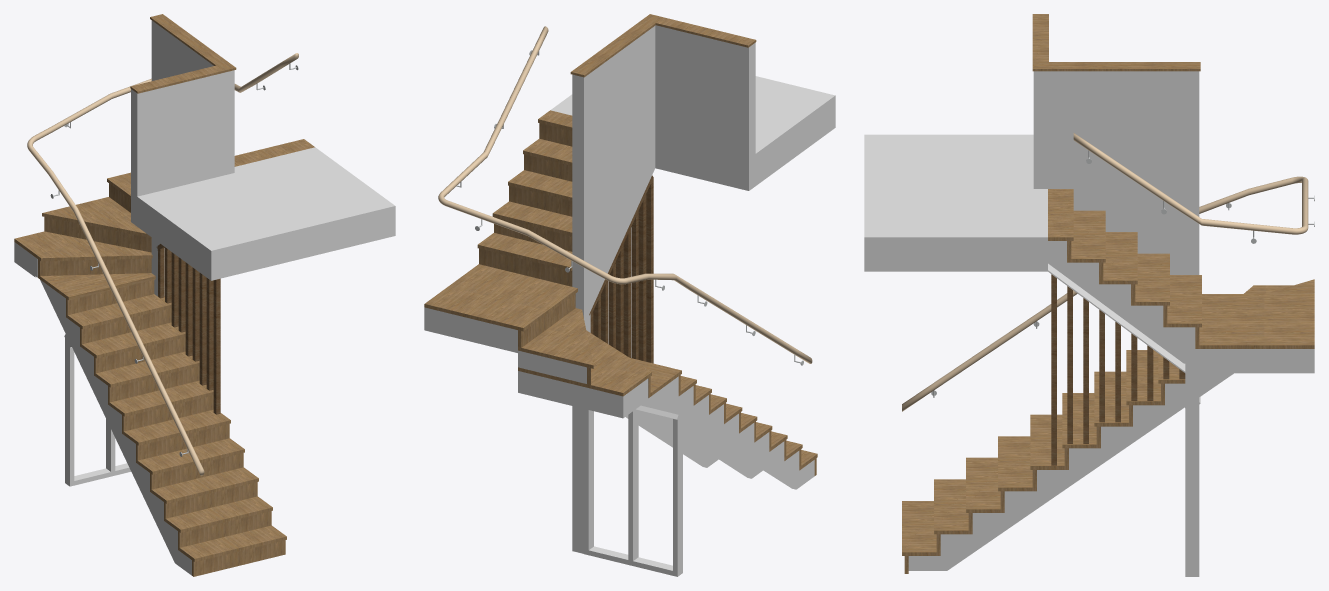
Rendered from stairs-james-design-v1-backup.glb.
3 views of the same model, side by side, from view 1: azimuth 30°, elevation 25°; view 2: azimuth 150°, elevation 25°; view 3: azimuth 270°, elevation 25° (orthographic). The views are drawn at different scales.
Visible parts, largest first — view 1: Geom3D_UpperFloor, Geom3D_Riser_Riser7 (×10), Geom3D_WallCentre, Geom3D_Tread_Tread8 (×5), Geom3D_Tread#2_Tread4 (×4), Geom3D_Baluster-45x45 (×7), Geom3D_LowerStringer-LVL-300x42, Geom3D_Round hardwood rail | 50 mm, Geom3D_Tread11, Geom3D_ (×2), Geom3D_WallCentreCapping, Geom3D_Tread12 (+5 smaller); view 2: Geom3D_WallCentre, Geom3D_UpperFloor, Geom3D_LowerStringer-LVL-300x42 (×3), Geom3D_CentreNewel, Geom3D_Baluster-45x45 (×6), Geom3D_Tread13, Geom3D_ (×2), Geom3D_Tread#1_Tread15 (×4), Geom3D_Riser#1_Riser18 (×5), Geom3D_Round hardwood rail | 50 mm, Geom3D_LVL-190x42 (×2), Geom3D_Tread11 (+5 smaller); view 3: Geom3D_UpperFloor, Geom3D_WallCentre, Geom3D_Tread#1_Tread15 (×5), Geom3D_LowerStringer-LVL-300x42, Geom3D_Tread#2_Tread4 (×4), Geom3D_Tread13, Geom3D_CentreNewel, Geom3D_Tread_Tread8 (×4), Geom3D_UppserStringer-LVL-300x42, Geom3D_Round hardwood rail | 50 mm, Geom3D_Baluster-45x45 (×5), Geom3D_LVL-200x42 (+2 smaller).
Part boxes in pixels (box(x1,y1,x2,y2)): Geom3D_UpperFloor: box(131, 147, 395, 280); Geom3D_Riser_Riser7 (×10): box(66, 280, 285, 576); Geom3D_WallCentre: box(131, 25, 234, 245); Geom3D_Tread_Tread8 (×5): box(66, 294, 230, 445); Geom3D_Tread#2_Tread4 (×4): box(136, 438, 286, 561); Geom3D_Baluster-45x45 (×7): box(171, 252, 220, 414); Geom3D_LowerStringer-LVL-300x42: box(40, 279, 191, 575); Geom3D_Round hardwood rail | 50 mm: box(27, 53, 298, 475); Geom3D_Tread11: box(14, 231, 152, 261); Geom3D_ (×2): box(65, 338, 130, 486); Geom3D_WallCentreCapping: box(130, 14, 236, 93); Geom3D_Tread12: box(42, 197, 151, 237); Geom3D_WallCentre: box(590, 25, 755, 310); Geom3D_UpperFloor: box(550, 76, 835, 190); Geom3D_LowerStringer-LVL-300x42 (×3): box(625, 376, 814, 489); Geom3D_CentreNewel: box(572, 73, 590, 553); Geom3D_Baluster-45x45 (×6): box(608, 178, 653, 363); Geom3D_Tread13: box(424, 264, 577, 331); Geom3D_ (×2): box(584, 409, 682, 576); Geom3D_Tread#1_Tread15 (×4): box(477, 138, 572, 270); Geom3D_Riser#1_Riser18 (×5): box(479, 123, 572, 286); Geom3D_Round hardwood rail | 50 mm: box(438, 26, 812, 363); Geom3D_LVL-190x42 (×2): box(518, 350, 625, 418); Geom3D_Tread11: box(518, 330, 651, 396); Geom3D_UpperFloor: box(864, 134, 1047, 271); Geom3D_WallCentre: box(1033, 71, 1185, 274); Geom3D_Tread#1_Tread15 (×5): box(1048, 189, 1201, 327); Geom3D_LowerStringer-LVL-300x42: box(908, 373, 1233, 570); Geom3D_Tread#2_Tread4 (×4): box(902, 436, 1036, 555); Geom3D_Tread13: box(1195, 294, 1314, 348); Geom3D_CentreNewel: box(1185, 71, 1199, 576); Geom3D_Tread_Tread8 (×4): box(1030, 350, 1164, 469); Geom3D_UppserStringer-LVL-300x42: box(1048, 241, 1195, 363); Geom3D_Round hardwood rail | 50 mm: box(902, 133, 1308, 411); Geom3D_Baluster-45x45 (×5): box(1051, 274, 1120, 465); Geom3D_LVL-200x42: box(1190, 349, 1309, 371).
Bounding box in the file's own units: 1.9 × 4.38 × 3.51.
Materials: 4 (2 with a texture image).
